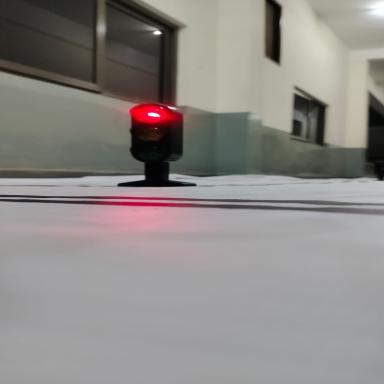traffic red: (100, 96, 204, 216)
